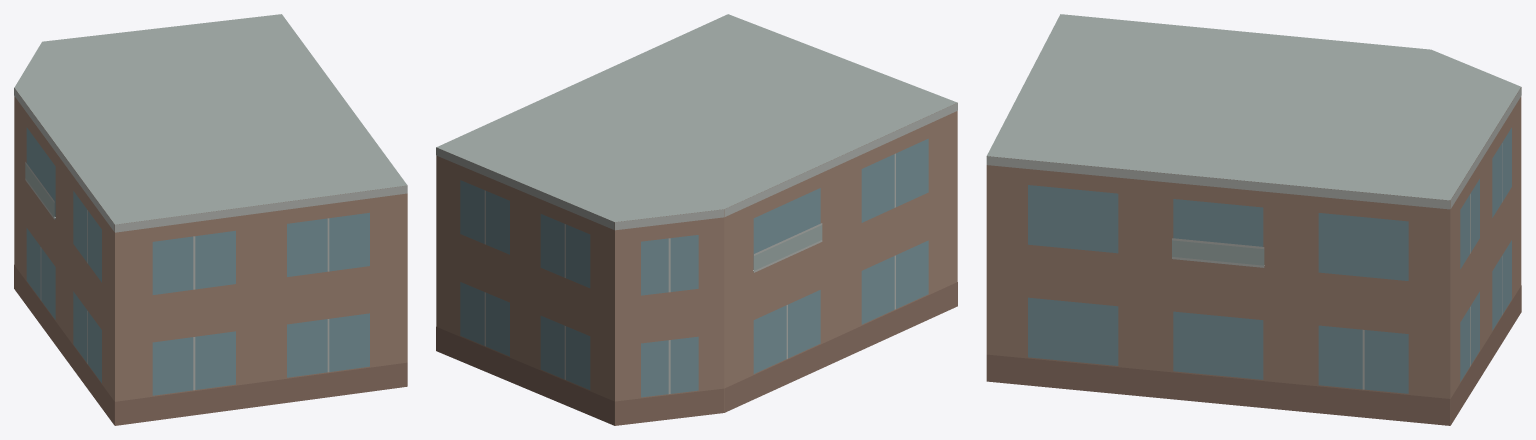
Rendered from survey-upis-32969635.glb.
3 views of the same model, side by side, from view 1: azimuth 30°, elevation 25°; view 2: azimuth 150°, elevation 25°; view 3: azimuth 270°, elevation 25° (orthographic). The views are drawn at different scales.
Parts seen in each view (by area): view 1: survey-upis-32969635.tmp; view 2: survey-upis-32969635.tmp; view 3: survey-upis-32969635.tmp.
Part boxes in pixels (x1,y1,x2,y2): survey-upis-32969635.tmp: [14, 14, 407, 425]; survey-upis-32969635.tmp: [436, 14, 957, 425]; survey-upis-32969635.tmp: [986, 14, 1521, 425].
Size of the model in its own units: 10.83 by 6.1 by 13.13.
